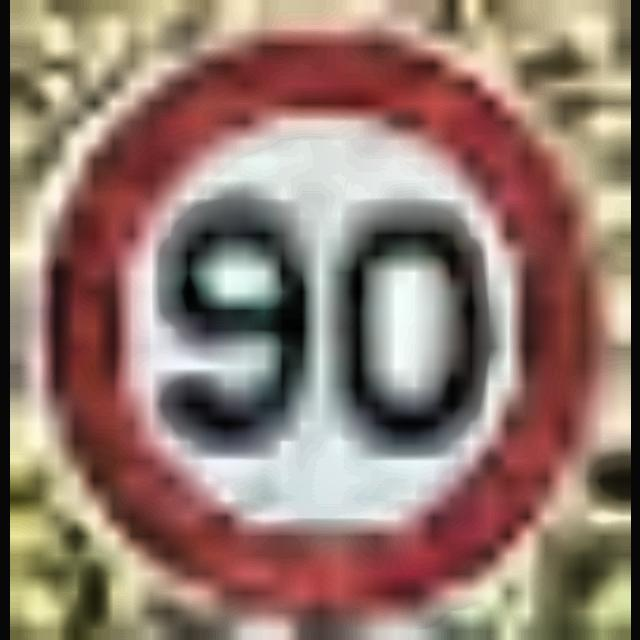speed_90: (9, 1, 611, 622)
